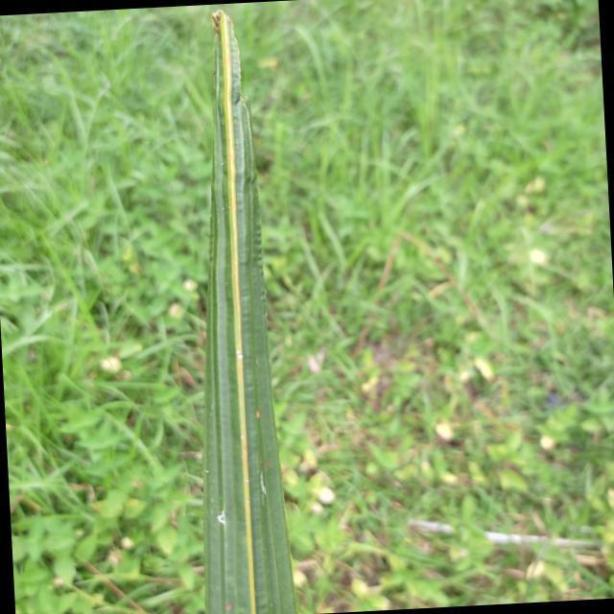Boron: (205, 5, 300, 614)
